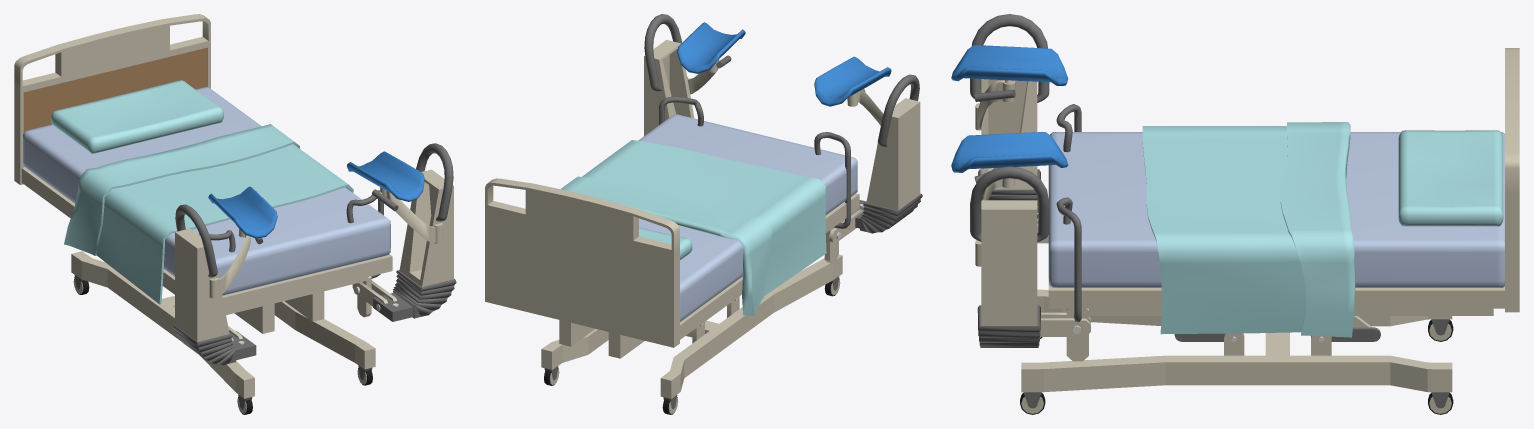
The model's file is Camilla.fbx.
The picture shows the model from 3 angles, left to right: view 1: azimuth 30°, elevation 25°; view 2: azimuth 150°, elevation 25°; view 3: azimuth 270°, elevation 25°; orthographic projection. The views are drawn at different scales.
Visible parts, largest first — view 1: Camilla; view 2: Camilla; view 3: Camilla.
Part boxes in pixels (left/top/right/bottom): Camilla: left=14, top=14, right=456, bottom=414; Camilla: left=485, top=14, right=922, bottom=414; Camilla: left=951, top=14, right=1519, bottom=414.
Bounding box in the file's own units: 146 × 124 × 223.
